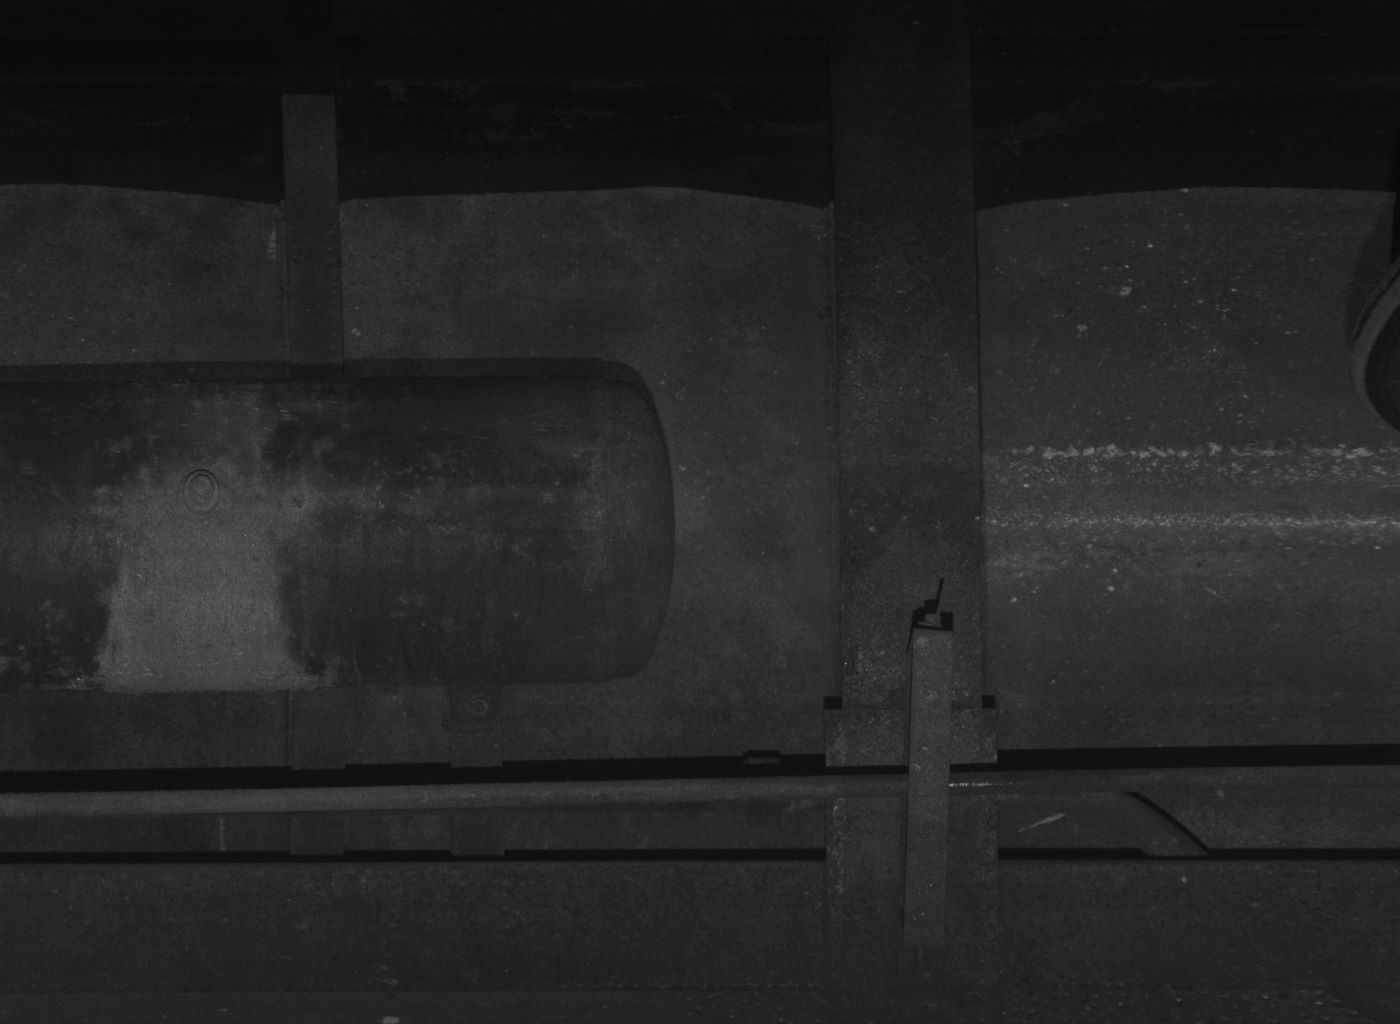normal: (904, 601, 955, 952)
